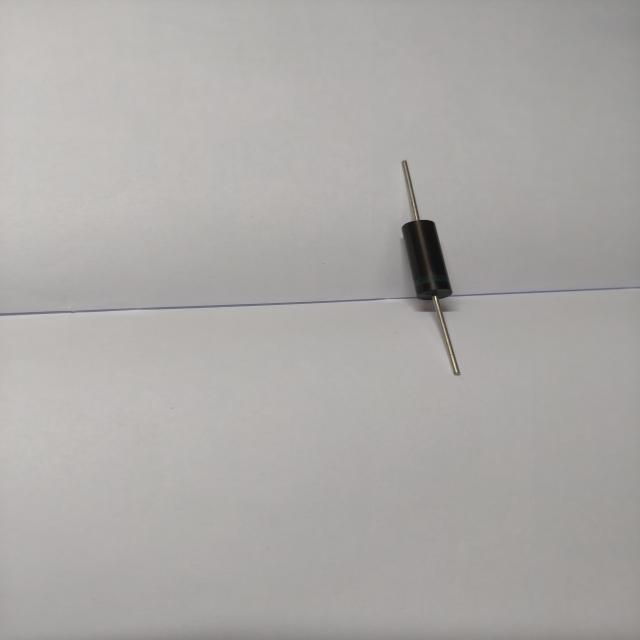resistor: (383, 154, 482, 378)
